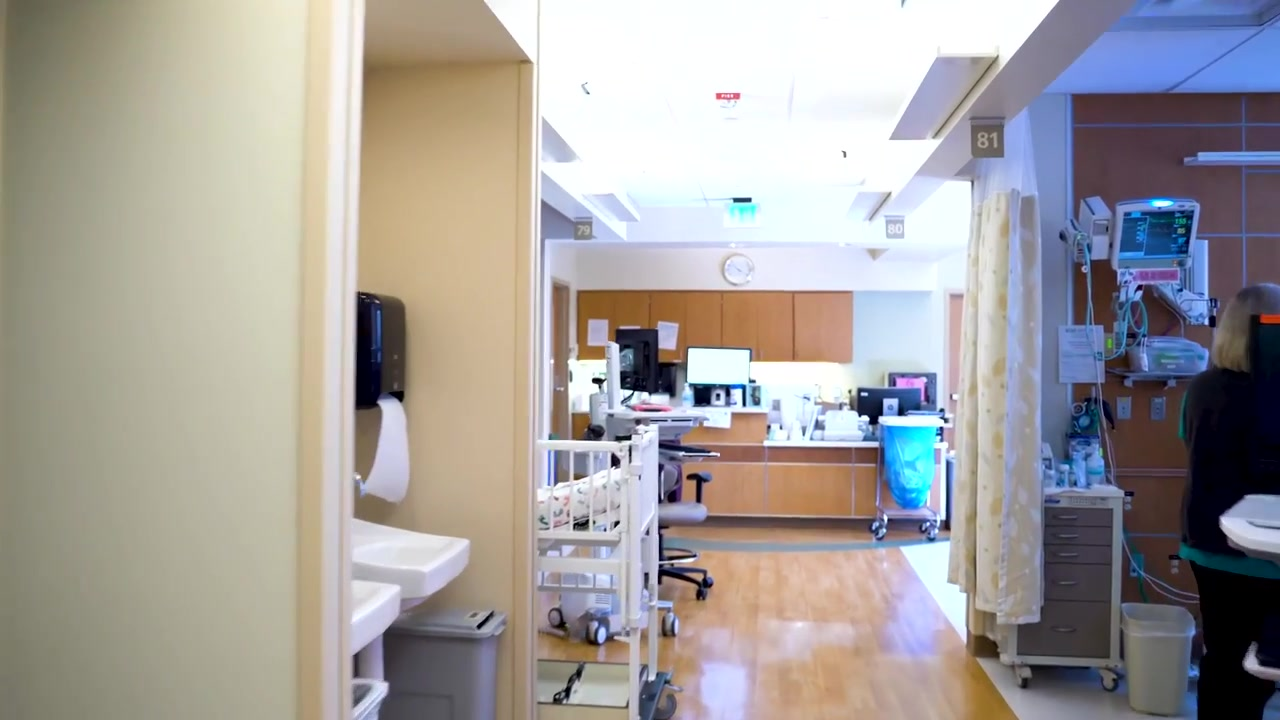bedrail: (537, 439, 631, 541), (536, 543, 620, 593)
bedside_monitor: (1110, 200, 1201, 271)
cabinet: (578, 291, 854, 363)
chair: (657, 461, 713, 596)
computer: (611, 330, 659, 393), (685, 346, 752, 387), (857, 386, 925, 426)
curtain: (946, 105, 1046, 626)
dispenser: (355, 291, 406, 411), (1088, 444, 1105, 487)
foot_board: (629, 424, 658, 540)
handle: (1049, 627, 1077, 633), (1055, 533, 1079, 539), (1053, 580, 1078, 585), (1054, 515, 1078, 520), (1055, 552, 1079, 557), (555, 386, 565, 393)
hospital_bed: (533, 424, 678, 720)
medical_drawer: (998, 483, 1125, 692)
sink: (352, 518, 471, 609), (352, 577, 402, 656)
staff: (1179, 281, 1280, 720)
utility_cart: (870, 415, 942, 539)
waste_bin: (375, 608, 507, 720), (1119, 602, 1195, 717), (879, 415, 938, 506), (351, 677, 389, 720)
